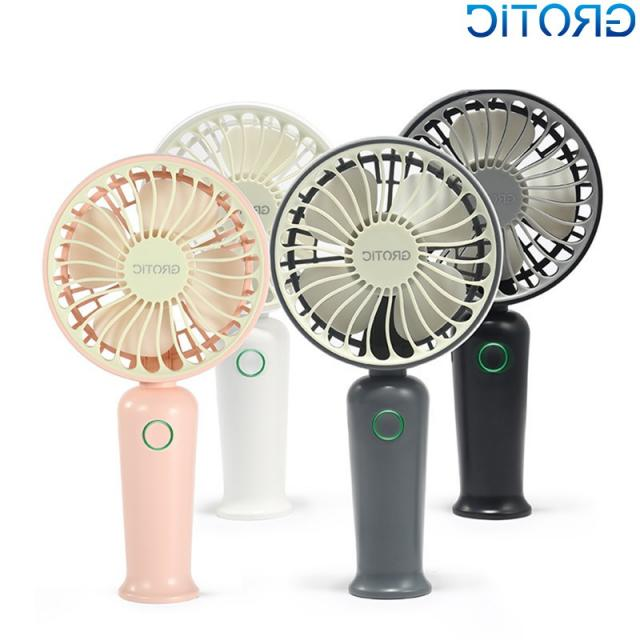fan: (40, 82, 608, 604)
